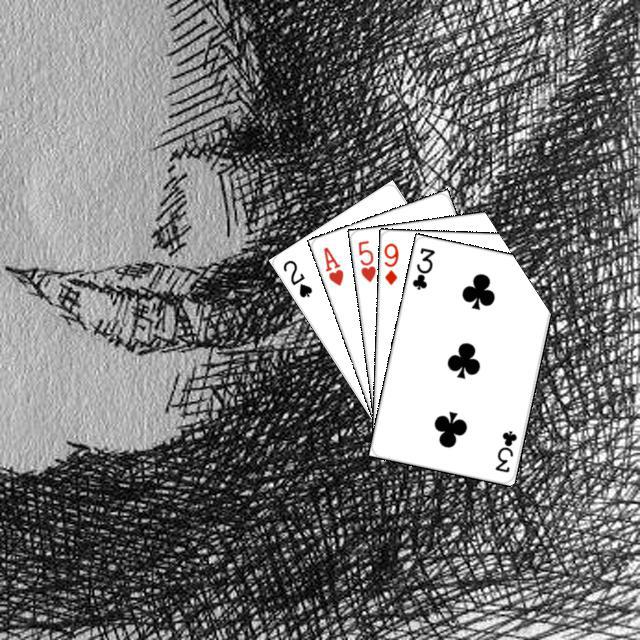2s: (278, 255, 314, 299)
3c: (407, 243, 437, 292), (490, 425, 518, 474)
5h: (353, 235, 377, 284)
9d: (380, 238, 400, 287)
Ah: (318, 242, 345, 287)
